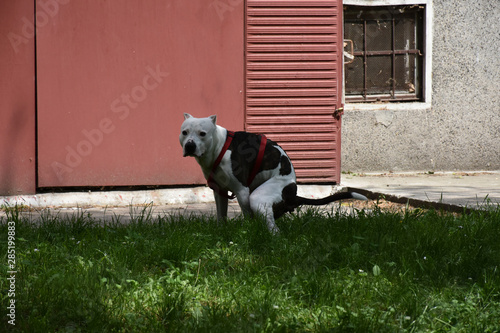dog_pooping: (175, 108, 371, 239)
